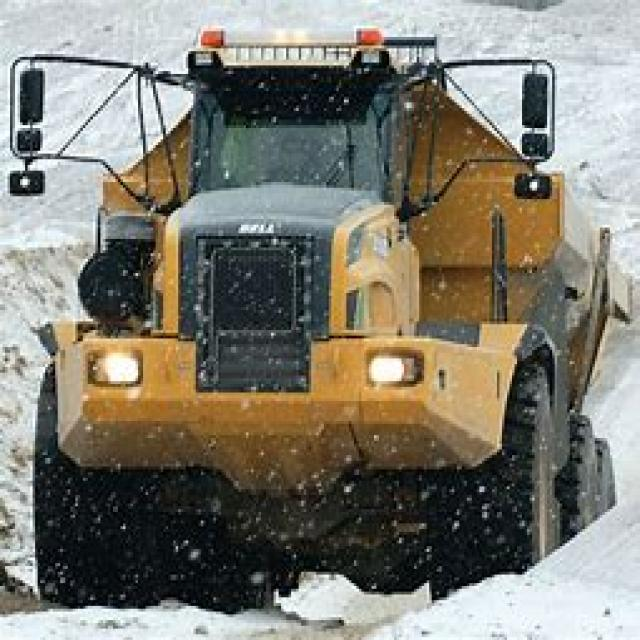dump_truck: (5, 12, 630, 594)
